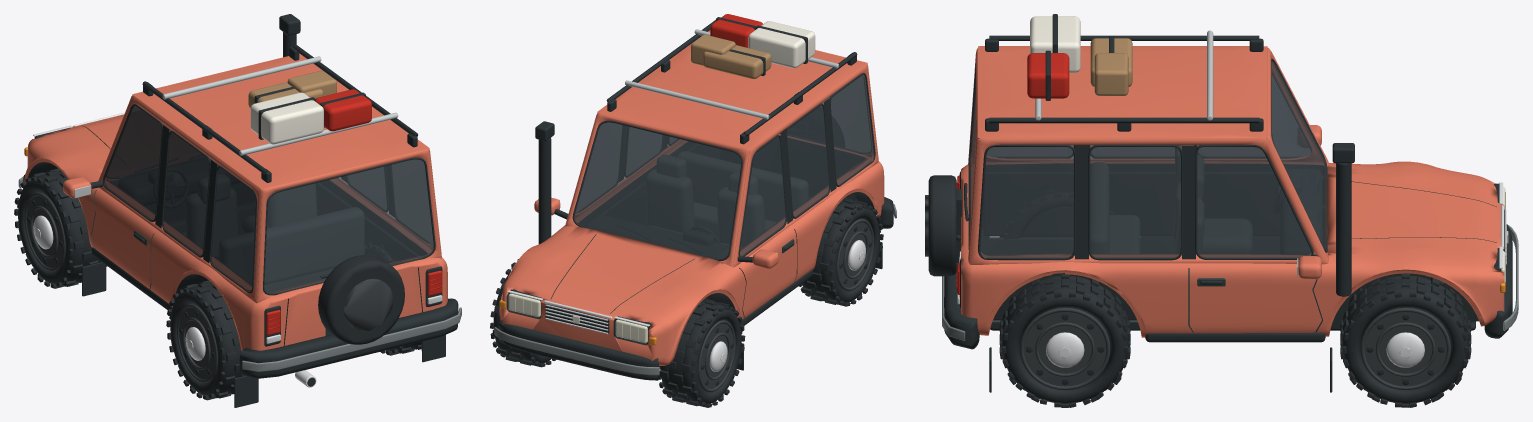
File: fell_lod1.fbx
The picture shows the model from 3 angles, left to right: view 1: azimuth 30°, elevation 25°; view 2: azimuth 150°, elevation 25°; view 3: azimuth 270°, elevation 25°; orthographic projection. The views are drawn at different scales.
Parts seen in each view (by area): view 1: Body, Wheel_FL_Mesh, Wheel_RL_Mesh, Wheel_RR_Mesh; view 2: Body, Wheel_FL_Mesh, Wheel_RL_Mesh, Wheel_FR_Mesh; view 3: Body, Wheel_FR_Mesh, Wheel_RR_Mesh, Wheel_RL_Mesh.
Part boxes in pixels (<box>): Body: <box>18,14,461,407</box>; Wheel_FL_Mesh: <box>14,168,107,288</box>; Wheel_RL_Mesh: <box>166,280,244,400</box>; Wheel_RR_Mesh: <box>365,241,421,355</box>; Body: <box>494,14,896,380</box>; Wheel_FL_Mesh: <box>658,298,745,407</box>; Wheel_RL_Mesh: <box>798,197,883,306</box>; Wheel_FR_Mesh: <box>490,259,556,367</box>; Body: <box>925,14,1518,392</box>; Wheel_FR_Mesh: <box>1340,273,1471,407</box>; Wheel_RR_Mesh: <box>999,274,1130,407</box>; Wheel_RL_Mesh: <box>1000,190,1114,238</box>.
Size of the model in its own units: 240 by 241 by 422.
